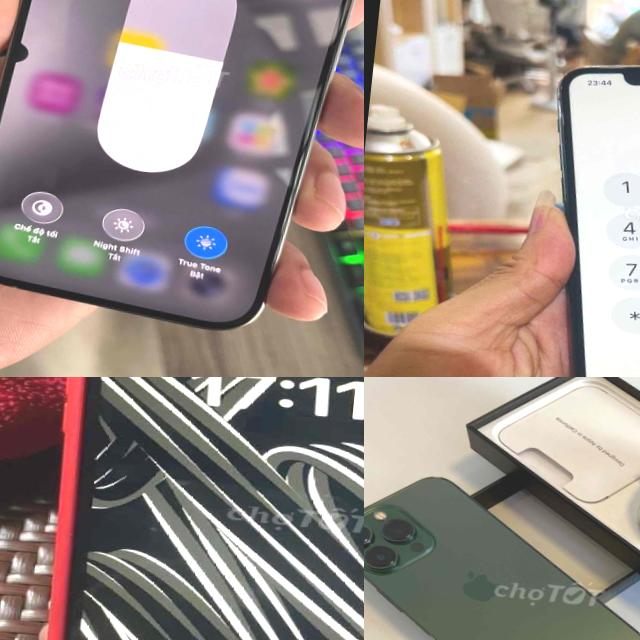gen_11: (513, 36, 640, 377)
gen_12_13: (364, 461, 640, 640)
gen_15: (0, 0, 364, 349)
gen_x_xs: (16, 377, 364, 640)
screen_defect: (6, 38, 31, 68)
